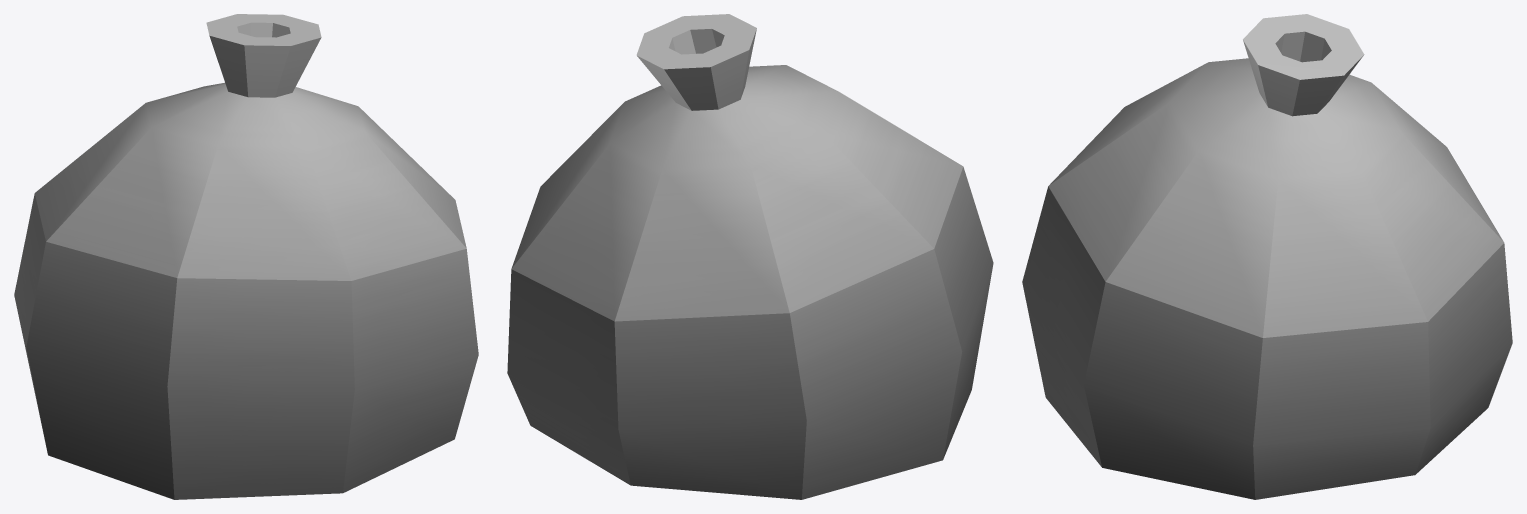
The model's file is Rubbish_Bag.glb.
The picture shows the model from 3 angles, left to right: view 1: azimuth 30°, elevation 25°; view 2: azimuth 150°, elevation 25°; view 3: azimuth 270°, elevation 25°; orthographic projection. The views are drawn at different scales.
Visible parts, largest first — view 1: GarbageBag; view 2: GarbageBag; view 3: GarbageBag.
Boxes of the visible parts, bbox=[...] form: GarbageBag: bbox=[14, 14, 478, 499]; GarbageBag: bbox=[507, 14, 993, 499]; GarbageBag: bbox=[1022, 14, 1512, 499].
Bounding box in the file's own units: 0.7378 × 0.6451 × 0.7102.
Materials: 1 (1 with a texture image).
